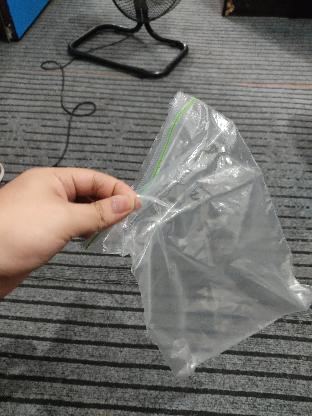Plastic Bag: (82, 93, 312, 379)
